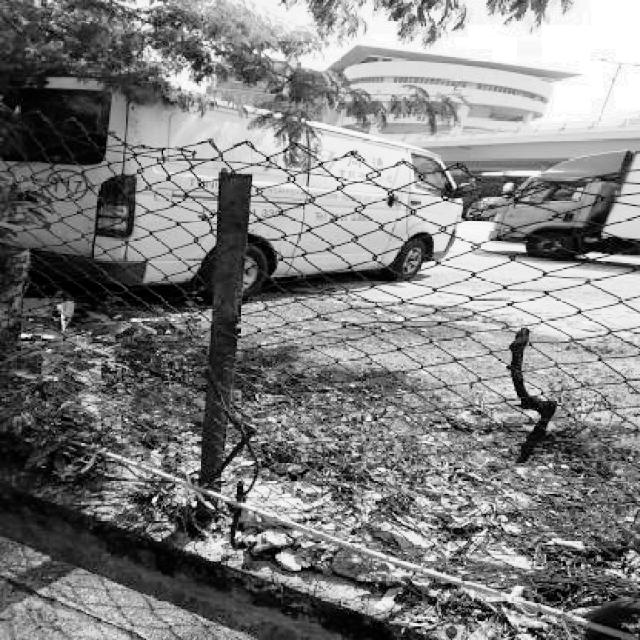fences: (264, 220, 614, 472)
